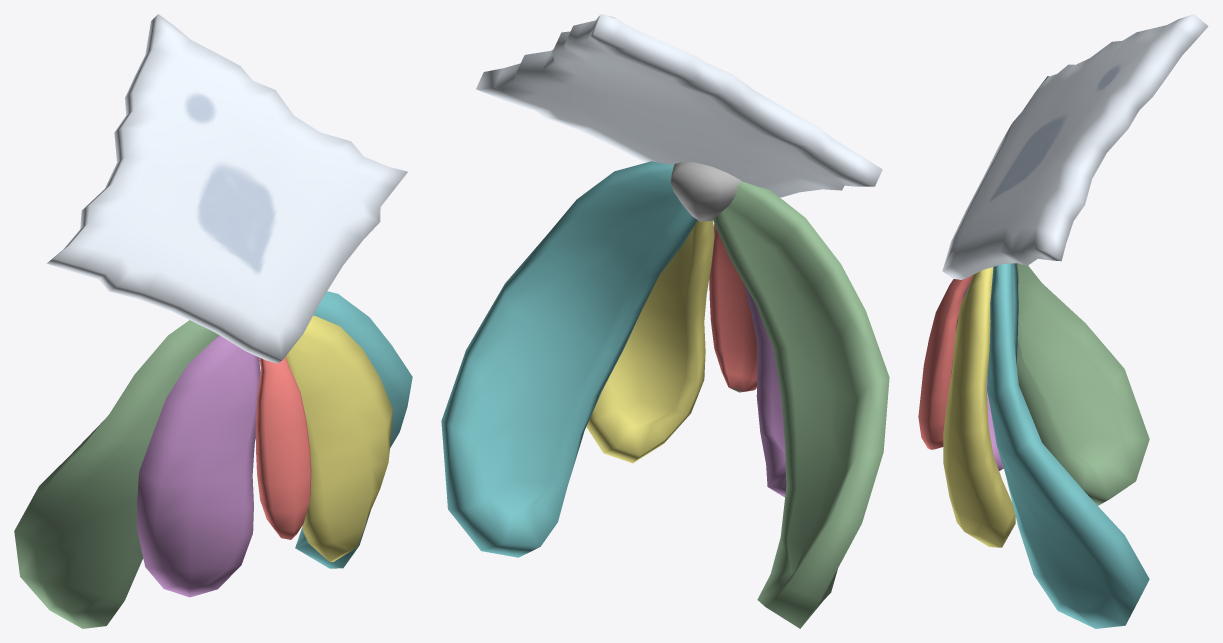
Rendered from Flor_LOW.fbx.
3 renders of one model, left to right at view 1: azimuth 30°, elevation 25°; view 2: azimuth 150°, elevation 25°; view 3: azimuth 270°, elevation 25°, orthographic. The views are drawn at different scales.
Visible parts, largest first — view 1: Flor_LOW; view 2: Flor_LOW; view 3: Flor_LOW.
Boxes of the visible parts, left/top/right/bottom form: Flor_LOW: left=14, top=14, right=412, bottom=628; Flor_LOW: left=441, top=14, right=889, bottom=628; Flor_LOW: left=918, top=14, right=1208, bottom=628.
Size of the model in its own units: 53.51 by 75.07 by 35.61.
